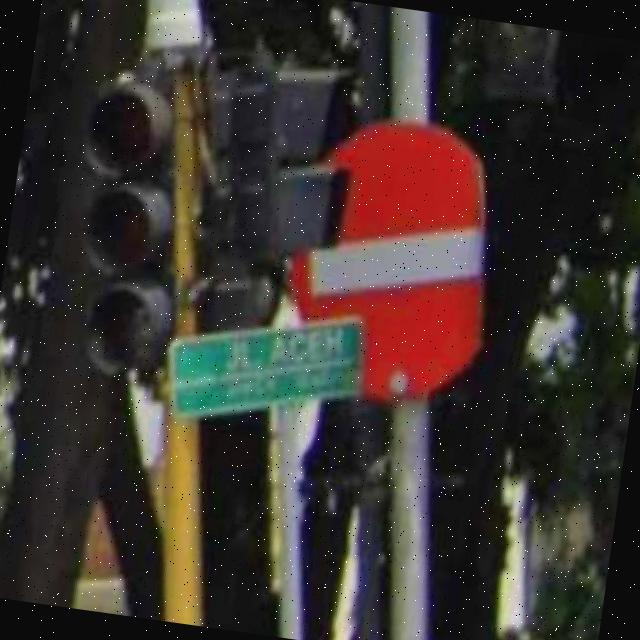Zakaz wjazdu: (283, 108, 507, 400)
